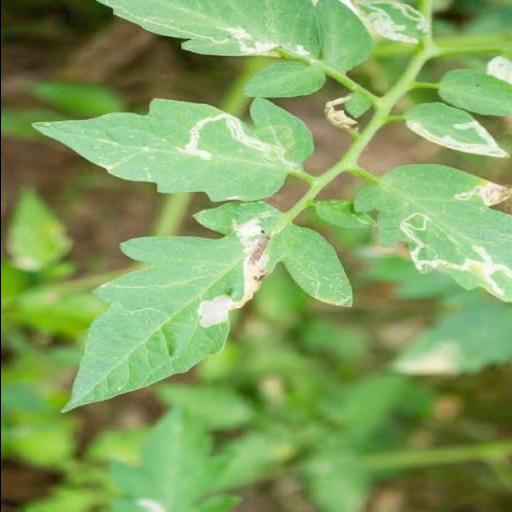disease_tomato: (56, 200, 352, 416), (28, 100, 316, 202), (352, 162, 512, 302), (401, 102, 512, 160)
